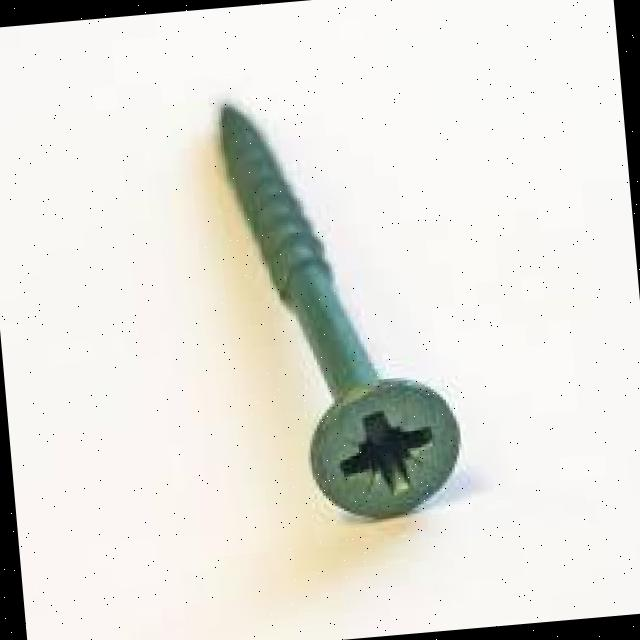Pozidriv: (300, 374, 465, 524)
